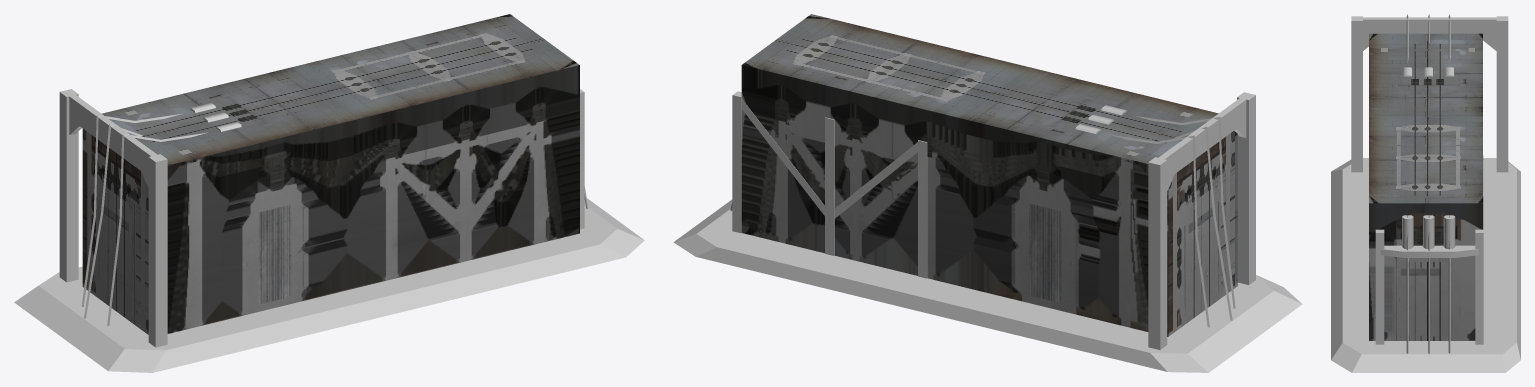
Rendered from dz_industrial_06.fbx.
The picture shows the model from 3 angles, left to right: view 1: azimuth 30°, elevation 25°; view 2: azimuth 150°, elevation 25°; view 3: azimuth 270°, elevation 25°; orthographic projection. The views are drawn at different scales.
Visible parts, largest first — view 1: dz_industrial_06_LOD0; view 2: dz_industrial_06_LOD0; view 3: dz_industrial_06_LOD0.
Part boxes in pixels (<box>): dz_industrial_06_LOD0: <box>14,14,644,372</box>; dz_industrial_06_LOD0: <box>673,14,1302,372</box>; dz_industrial_06_LOD0: <box>1331,14,1520,372</box>.
Size of what is drawn, in the model's own units: 11.8 by 4.23 by 4.43.
